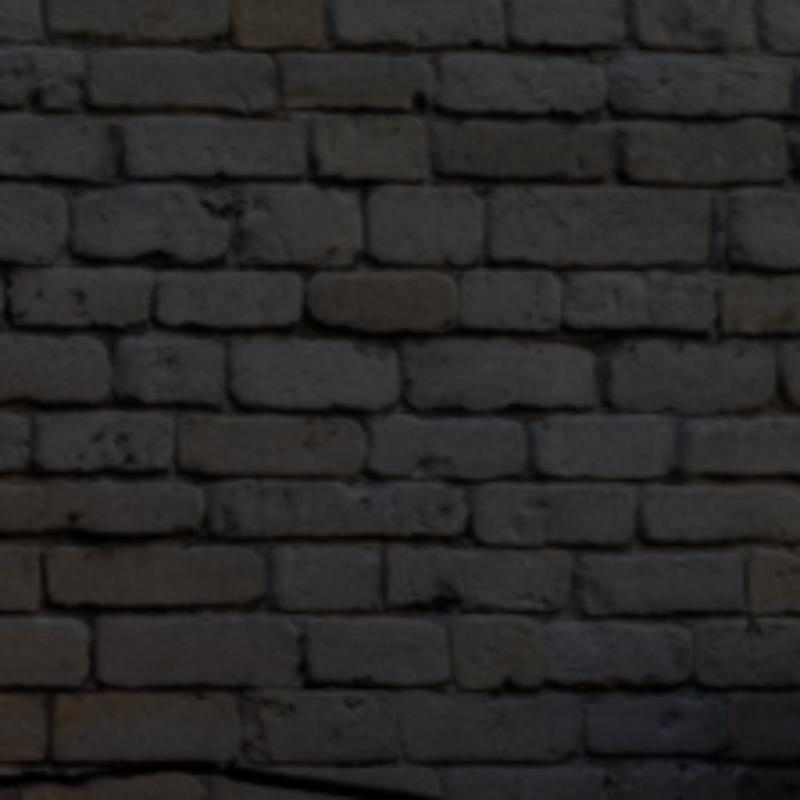crack: (0, 761, 429, 796)
